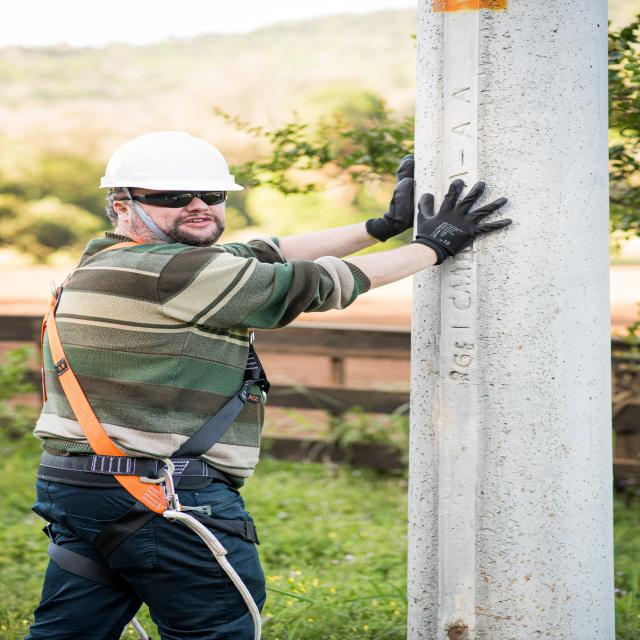capacete: (95, 130, 247, 198)
luva: (411, 175, 516, 267), (362, 153, 418, 244)
